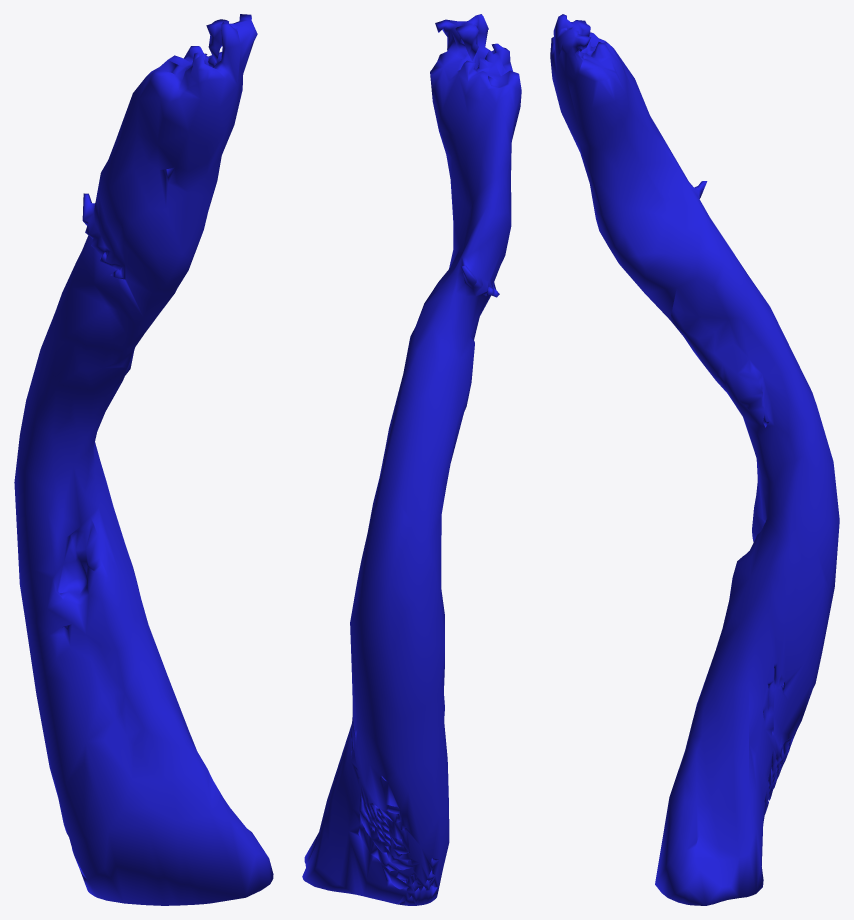
3 renders of one model, left to right at view 1: azimuth 30°, elevation 25°; view 2: azimuth 150°, elevation 25°; view 3: azimuth 270°, elevation 25°, orthographic. The views are drawn at different scales.
Visible parts, largest first — view 1: Polygonal_Model_3_Triangles_0; view 2: Polygonal_Model_3_Triangles_0; view 3: Polygonal_Model_3_Triangles_0.
Boxes of the visible parts, x1,y1,x2,y2 form: Polygonal_Model_3_Triangles_0: (14, 14, 273, 905); Polygonal_Model_3_Triangles_0: (302, 14, 521, 905); Polygonal_Model_3_Triangles_0: (550, 14, 839, 905).
Bounding box in the file's own units: 0.9612 × 4.33 × 1.36.
